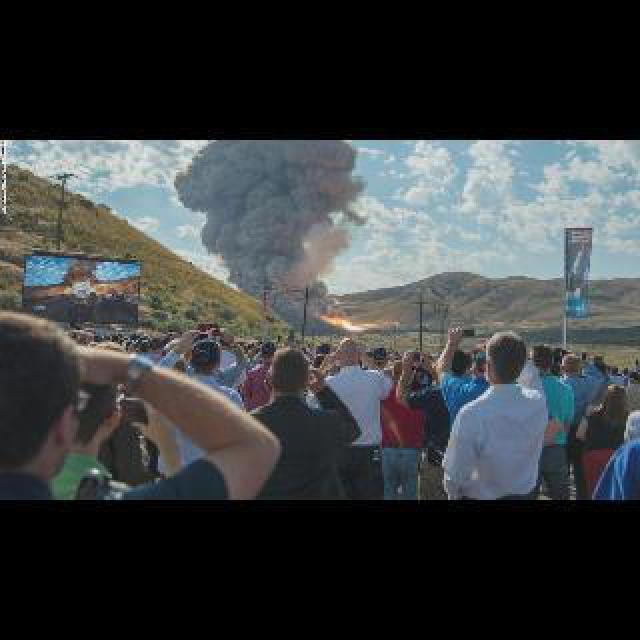Fire: (326, 314, 362, 328)
Smoke: (178, 134, 370, 304)
